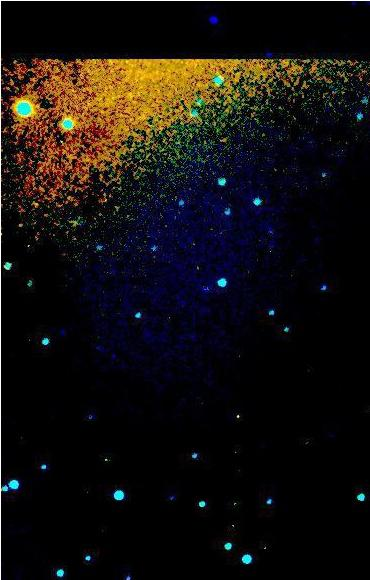star: (224, 407, 254, 437)
